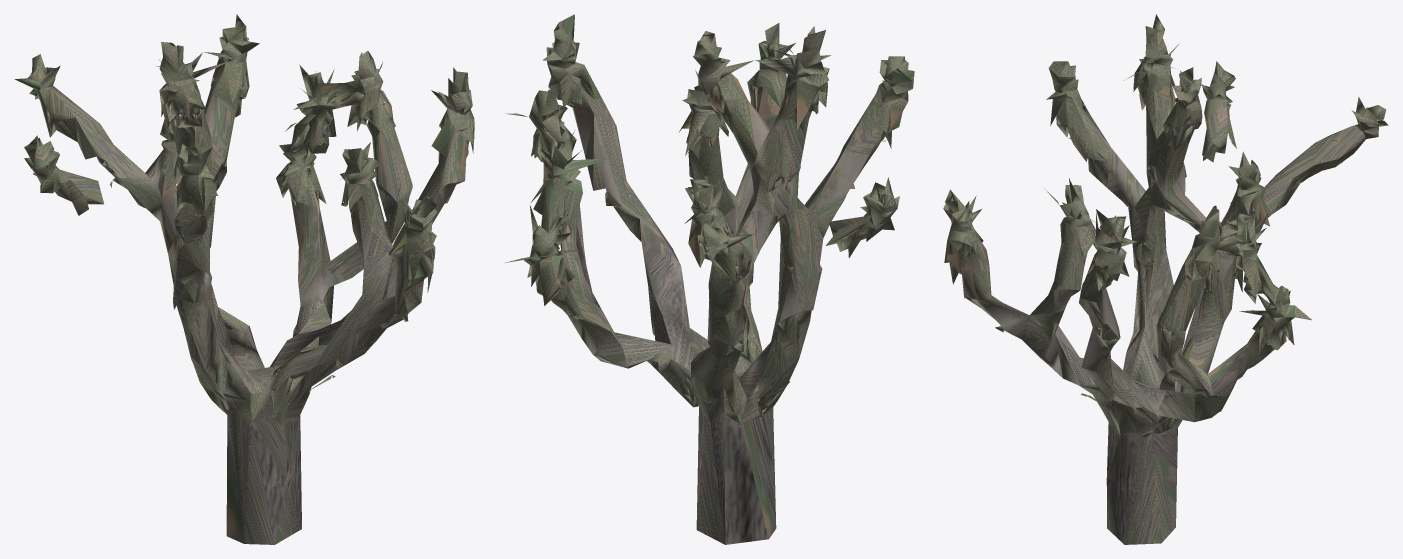
The model's file is 05_joshua_tree.glb.
3 renders of one model, left to right at view 1: azimuth 30°, elevation 25°; view 2: azimuth 150°, elevation 25°; view 3: azimuth 270°, elevation 25°, orthographic. The views are drawn at different scales.
Visible parts, largest first — view 1: world; view 2: world; view 3: world.
Part boxes in pixels (<box>): world: <box>14,14,474,544</box>; world: <box>505,14,914,544</box>; world: <box>943,14,1388,544</box>.
Size of the model in its own units: 0.7862 by 0.9818 by 0.836.
1 material, 1 textured.
